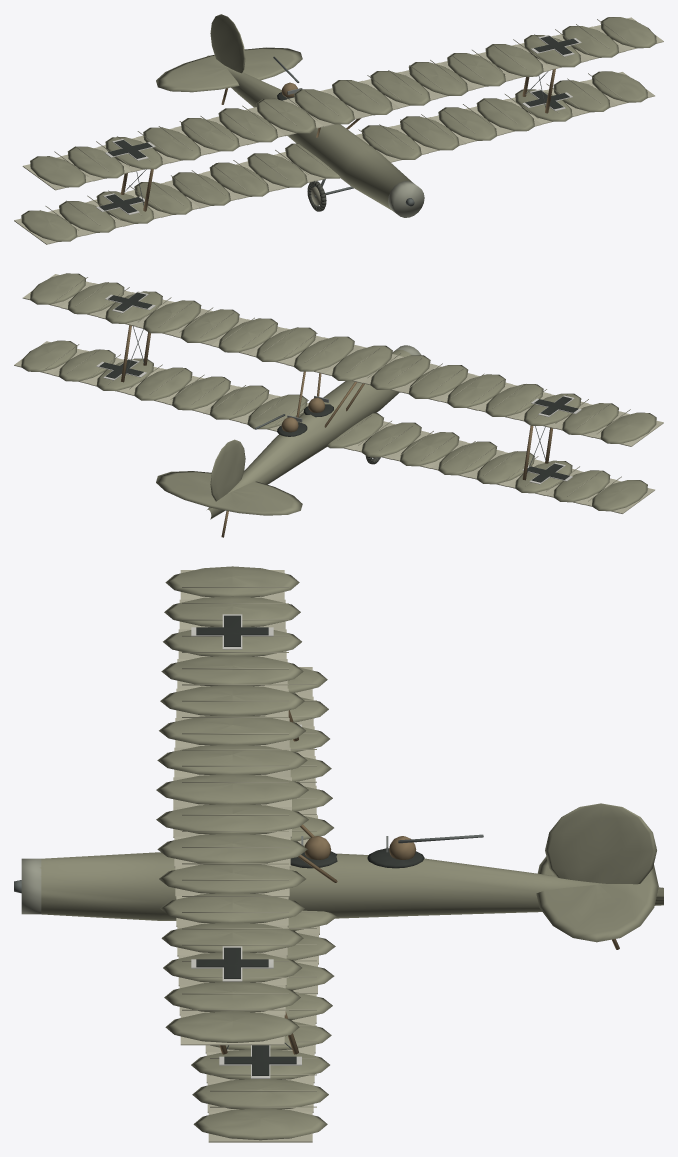
Rendered from dfw.glb.
3 renders of one model, top to bottom at view 1: azimuth 30°, elevation 25°; view 2: azimuth 150°, elevation 25°; view 3: azimuth 270°, elevation 25°, orthographic. The views are drawn at different scales.
Parts seen in each view (by area): view 1: dfw; view 2: dfw; view 3: dfw.
Boxes of the visible parts, x1,y1,x2,y2 form: dfw: [14, 14, 663, 244]; dfw: [14, 273, 663, 537]; dfw: [14, 566, 663, 1142].
Size of the model in its own units: 13.22 by 2.16 by 7.64.
